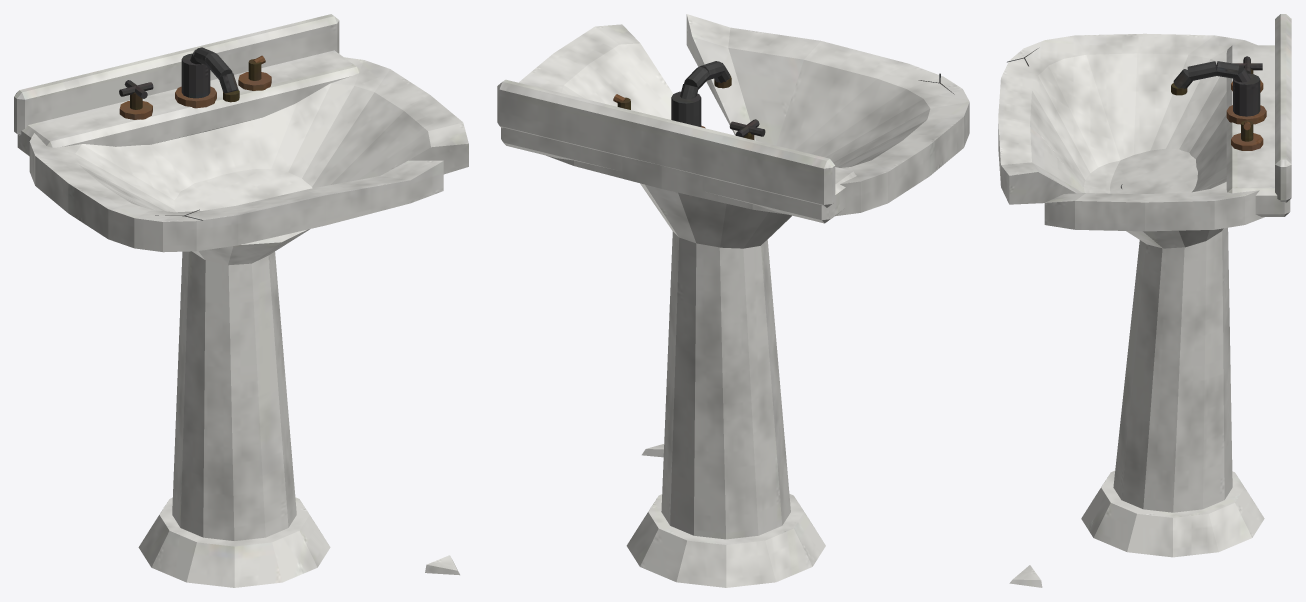
The model's file is BR29_broken_sink.glb.
The picture shows the model from 3 angles, left to right: view 1: azimuth 30°, elevation 25°; view 2: azimuth 150°, elevation 25°; view 3: azimuth 270°, elevation 25°; orthographic projection. The views are drawn at different scales.
Parts seen in each view (by area): view 1: Basin with fractured missing corner; view 2: Basin with fractured missing corner; view 3: Basin with fractured missing corner.
Part boxes in pixels (x1=…): Basin with fractured missing corner: x1=14, y1=14, x2=468, y2=587; Basin with fractured missing corner: x1=497, y1=14, x2=969, y2=587; Basin with fractured missing corner: x1=998, y1=14, x2=1291, y2=587.
Size of the model in its own units: 0.6343 by 0.8 by 0.4663.
Materials: 5 (5 with a texture image).
